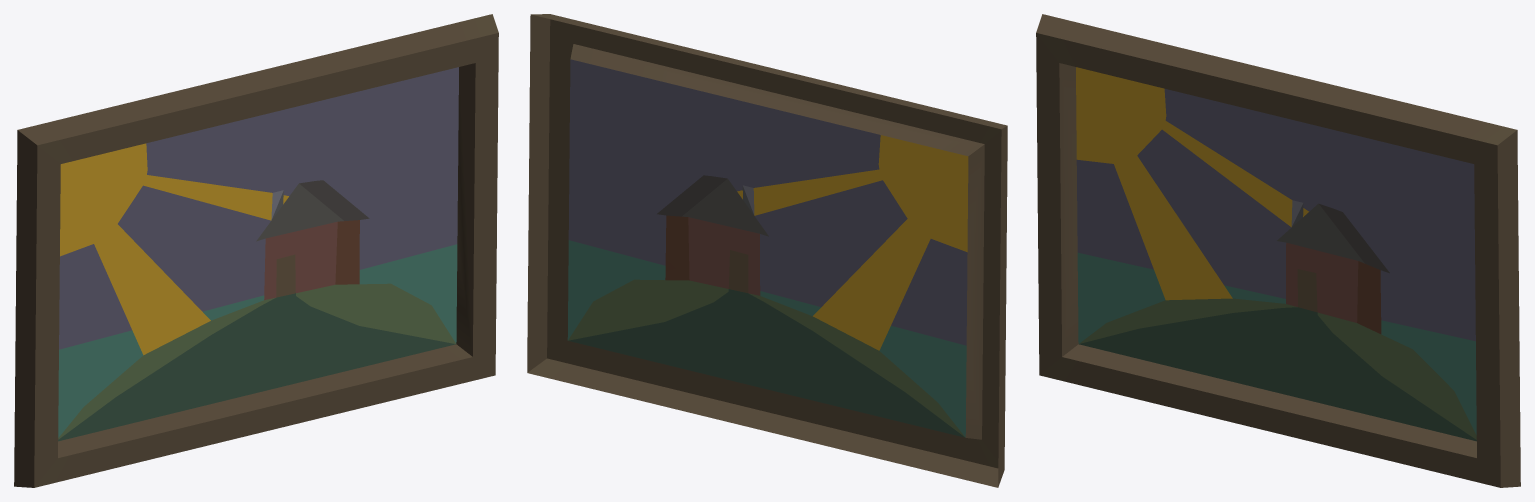
File: P_Painting_01_LD.fbx
The picture shows the model from 3 angles, left to right: view 1: azimuth 30°, elevation 25°; view 2: azimuth 150°, elevation 25°; view 3: azimuth 330°, elevation 25°; orthographic projection.
Visible parts, largest first — view 1: P_Painting_01; view 2: P_Painting_01; view 3: P_Painting_01.
Boxes of the visible parts, bbox=[...] form: P_Painting_01: bbox=[14, 14, 498, 487]; P_Painting_01: bbox=[527, 14, 1007, 487]; P_Painting_01: bbox=[1036, 14, 1520, 487].
Bounding box in the file's own units: 123 × 88.65 × 7.41.
1 material, 1 textured.
